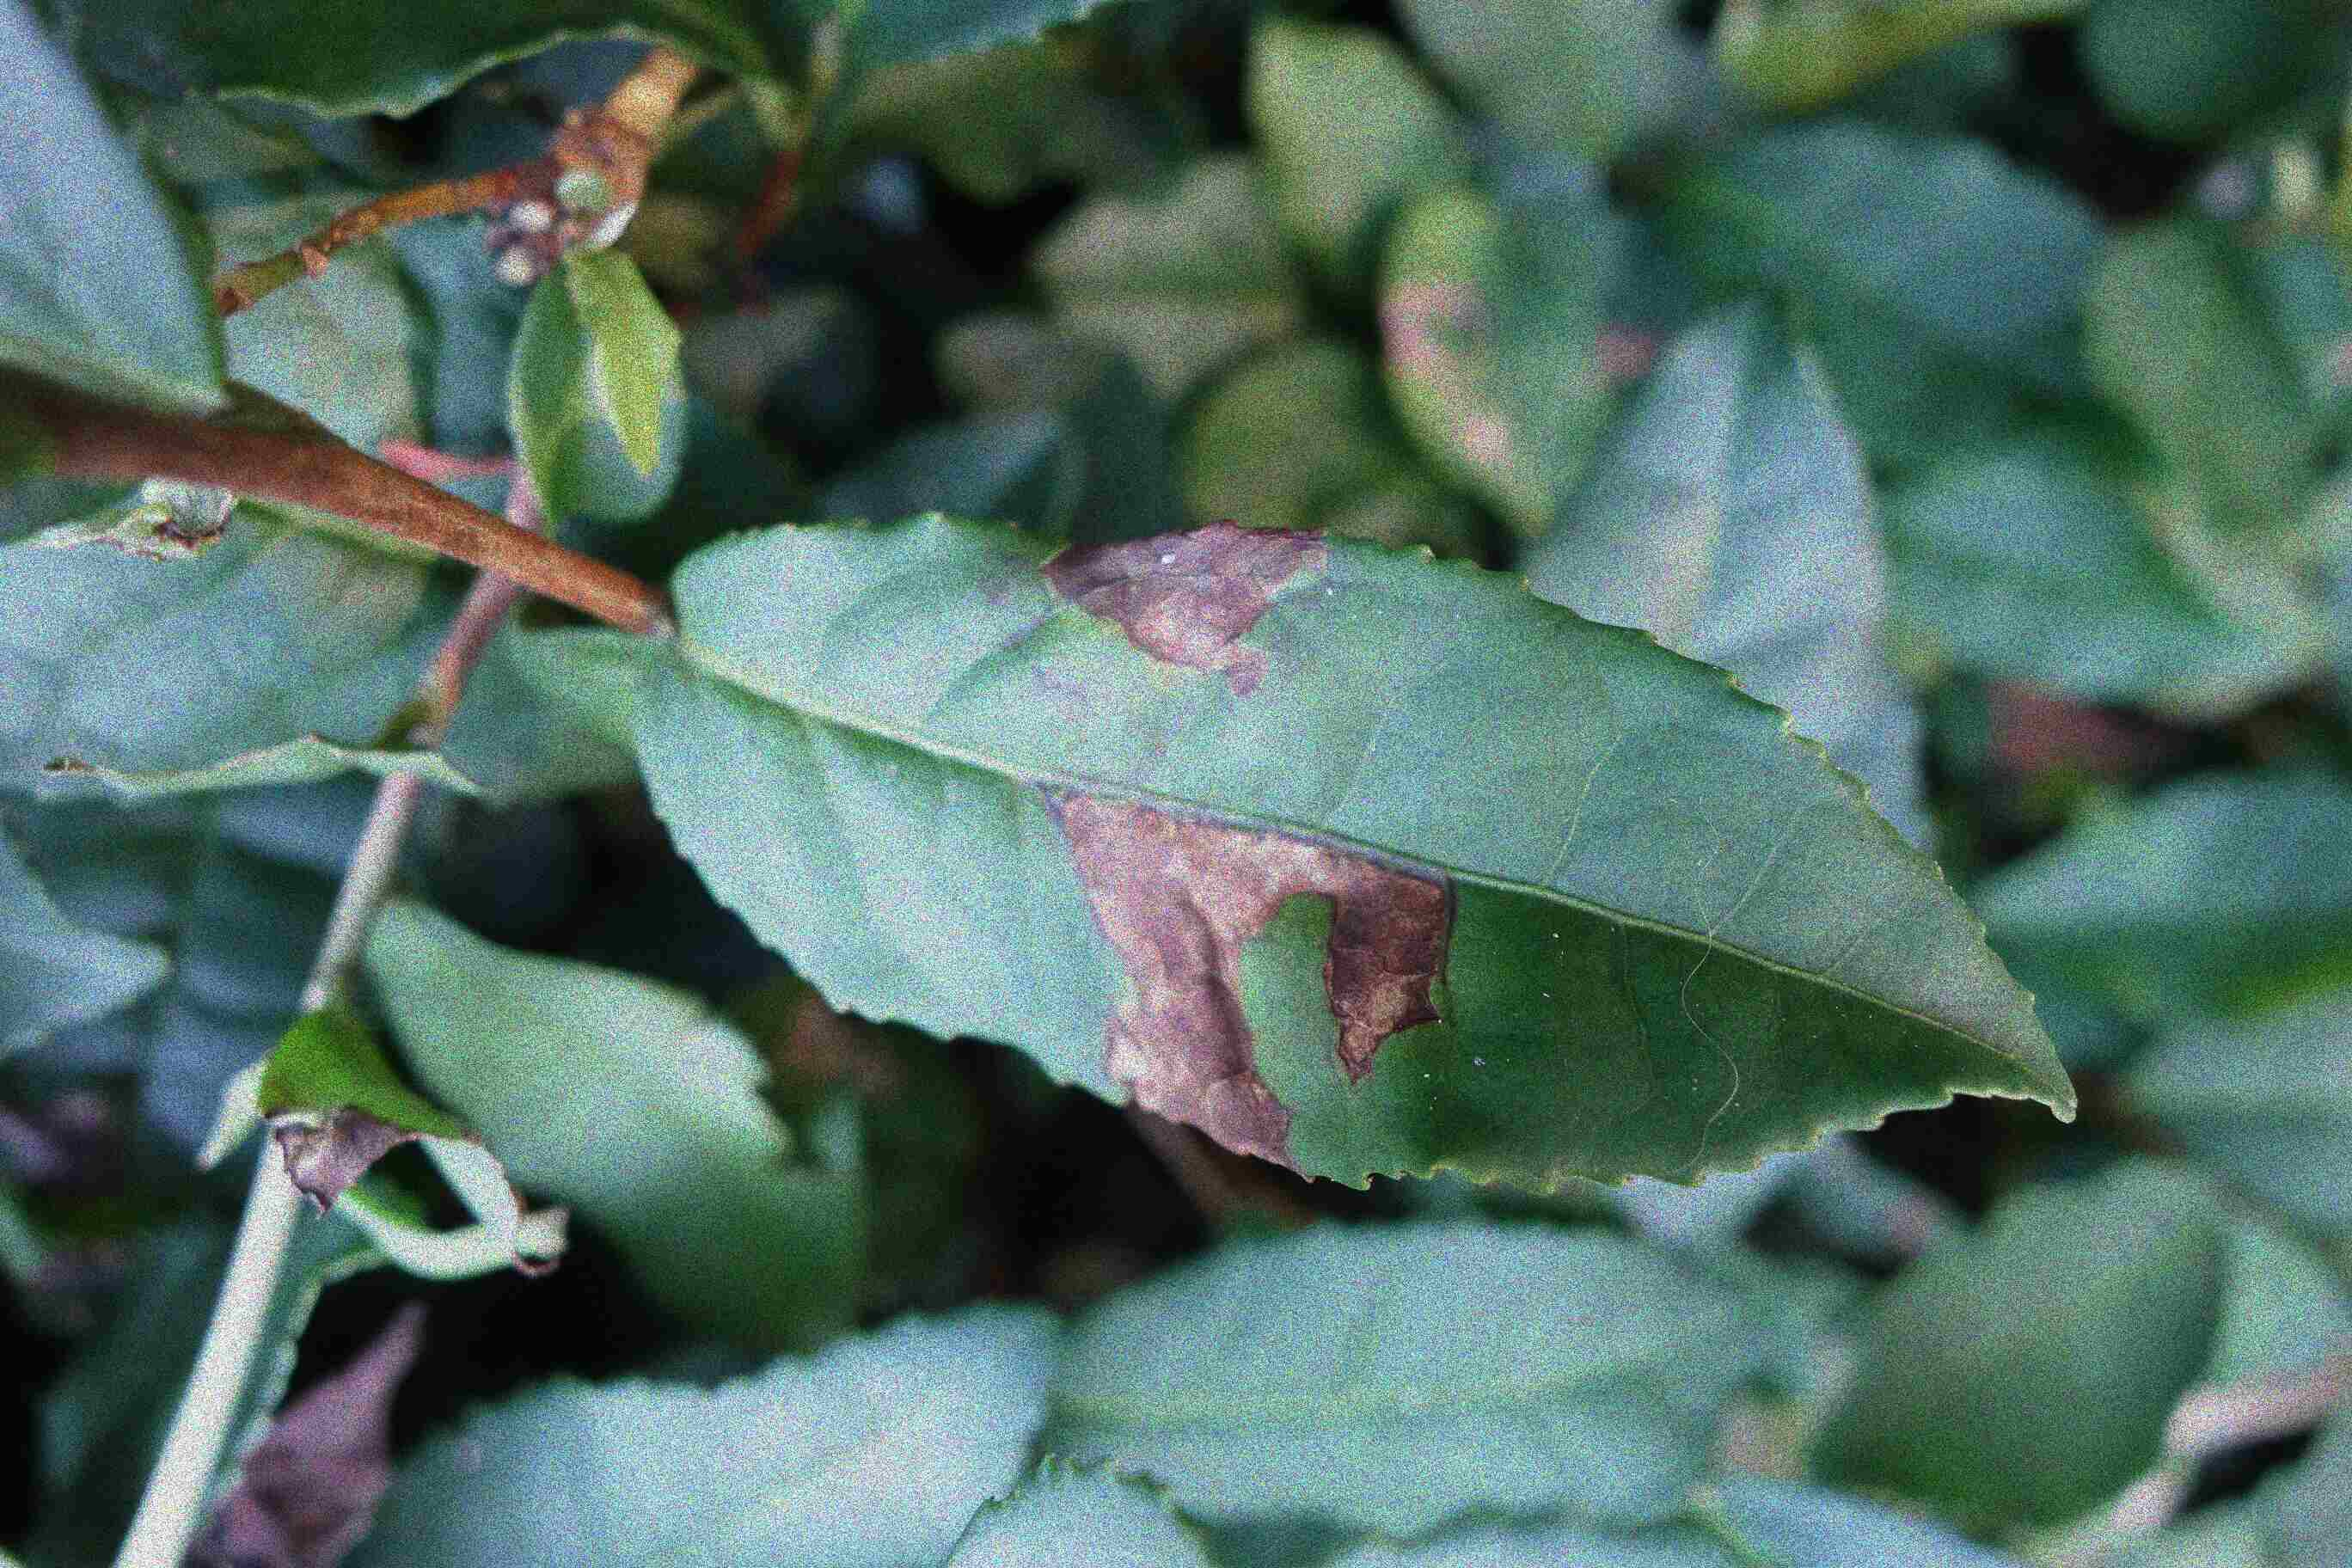tanju_high: (618, 490, 2082, 1190)
